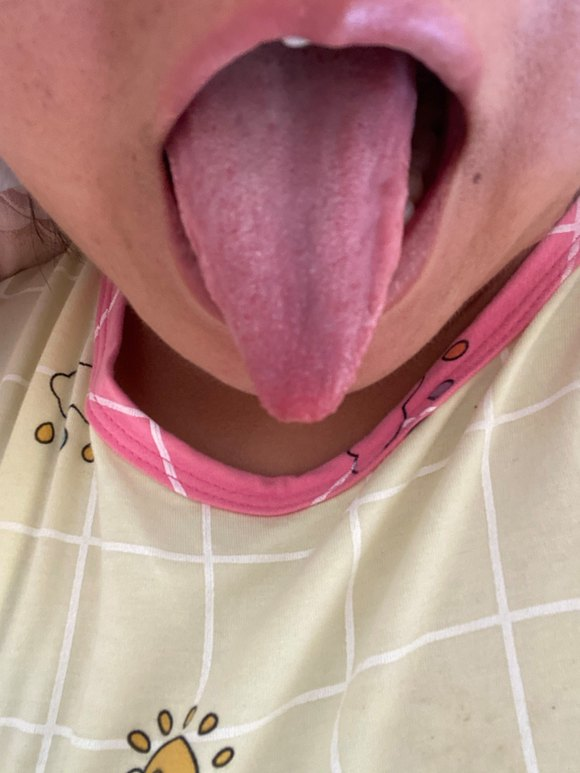baitaishe: (163, 44, 418, 420)
hongshe: (163, 44, 418, 420)
shoushe: (163, 44, 418, 420)
